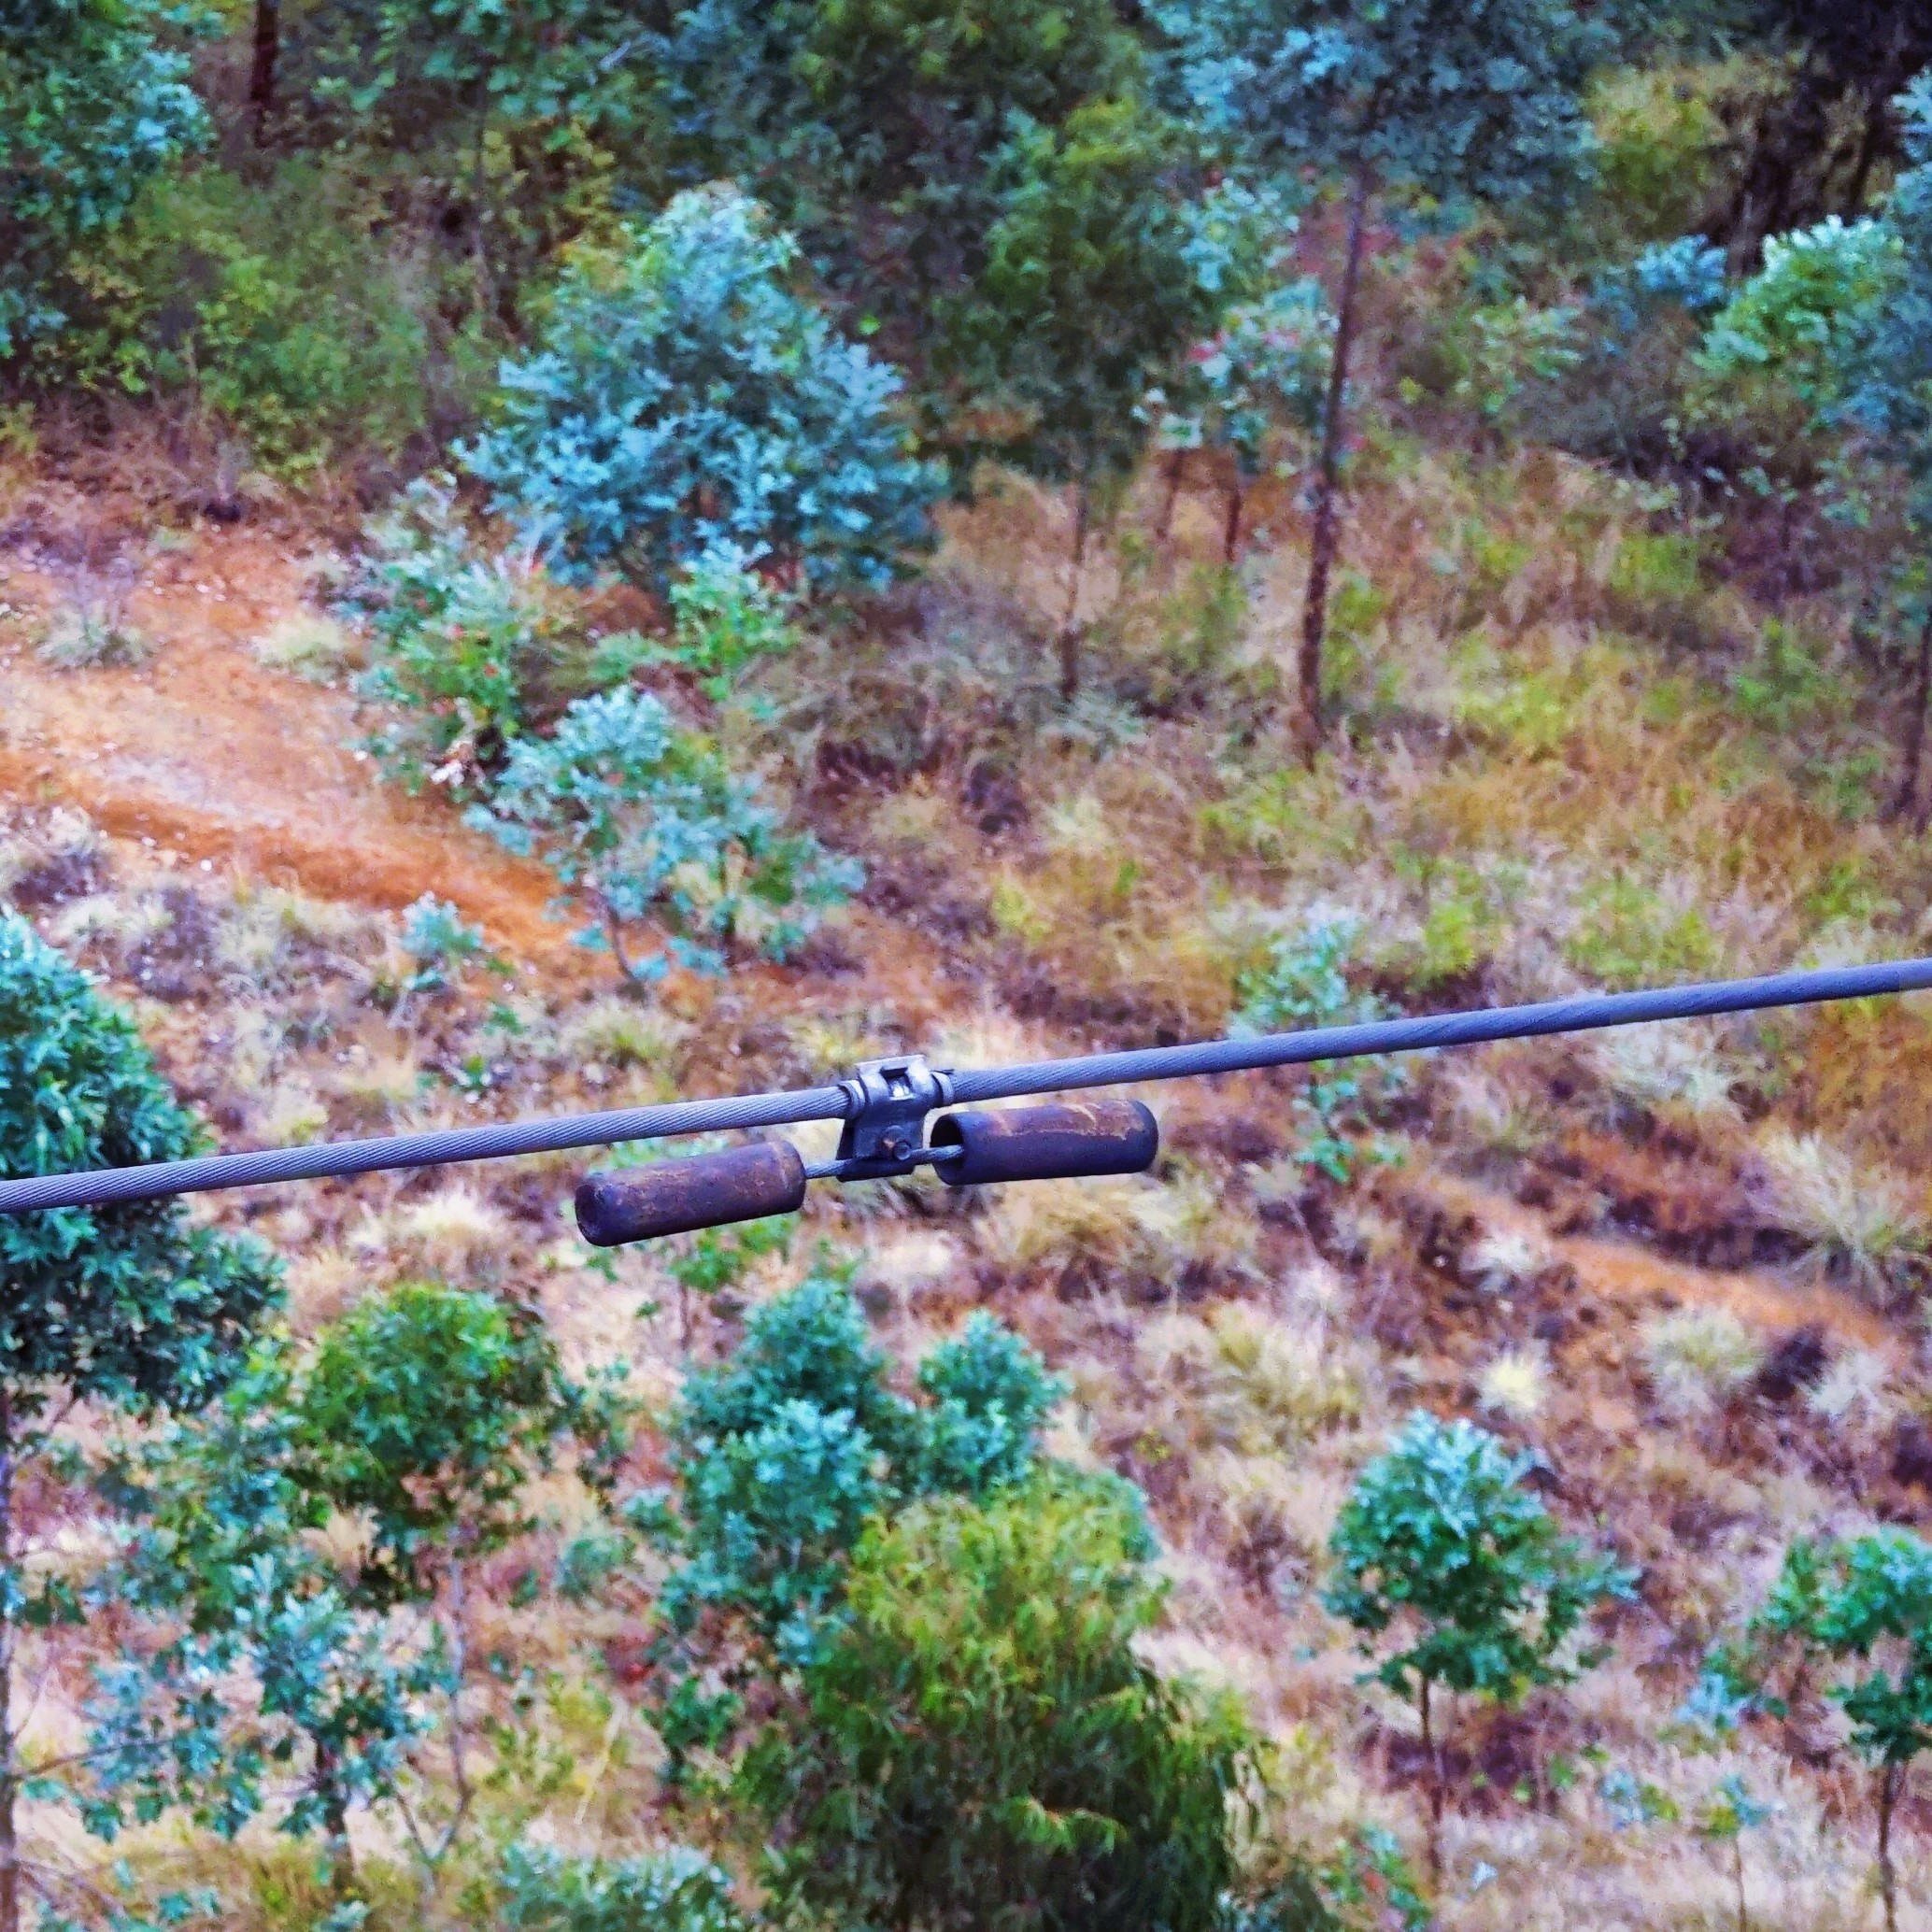Shockproof hammer: (568, 1028, 1187, 1269)
